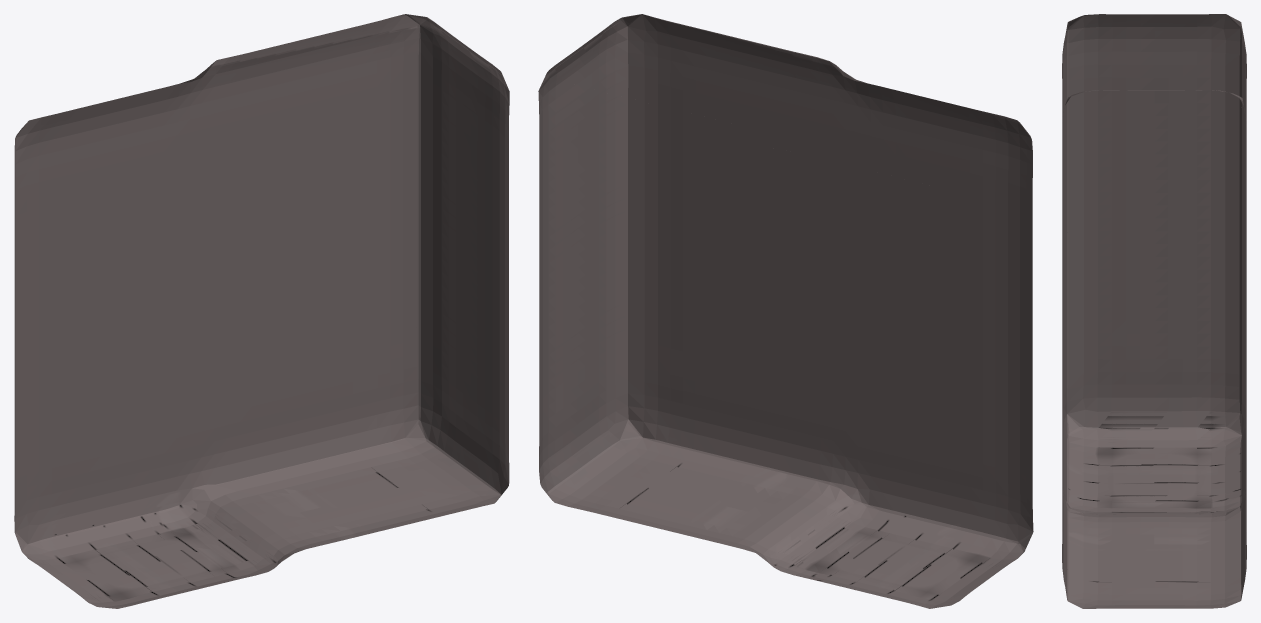
The picture shows the model from 3 angles, left to right: view 1: azimuth 30°, elevation 25°; view 2: azimuth 150°, elevation 25°; view 3: azimuth 270°, elevation 25°; orthographic projection. The views are drawn at different scales.
Visible parts, largest first — view 1: model; view 2: model; view 3: model.
Part boxes in pixels (<box>): model: <box>14,14,509,608</box>; model: <box>538,14,1033,608</box>; model: <box>1062,14,1246,608</box>.
Bounding box in the file's own units: 0.9708 × 1 × 0.3804.
Materials: 1 (1 with a texture image).
